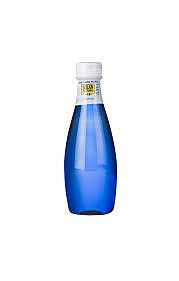solan de cabras: (47, 53, 134, 235)
